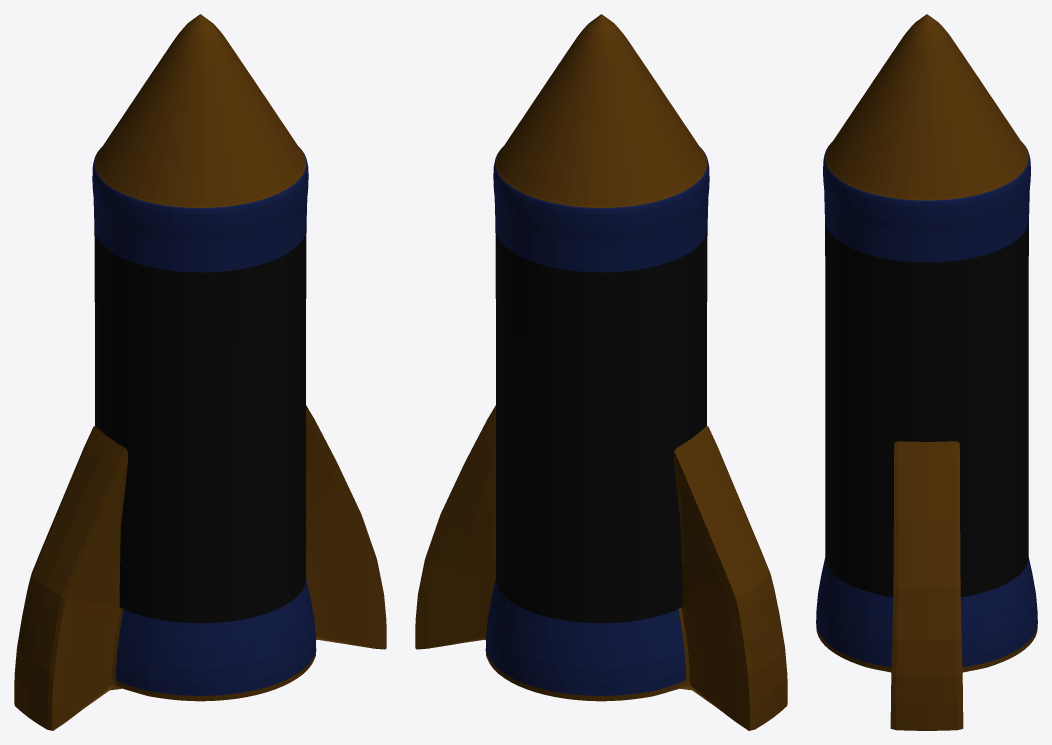
Rendered from raketa.obj.
3 views of the same model, side by side, from view 1: azimuth 30°, elevation 25°; view 2: azimuth 150°, elevation 25°; view 3: azimuth 270°, elevation 25° (orthographic). The views are drawn at different scales.
Visible parts, largest first — view 1: Cylinder; view 2: Cylinder; view 3: Cylinder.
Boxes of the visible parts, left/top/right/bottom form: Cylinder: left=14, top=14, right=386, bottom=730; Cylinder: left=415, top=14, right=787, bottom=730; Cylinder: left=816, top=14, right=1037, bottom=730.
Bounding box in the file's own units: 3.62 × 6.71 × 2.11.
